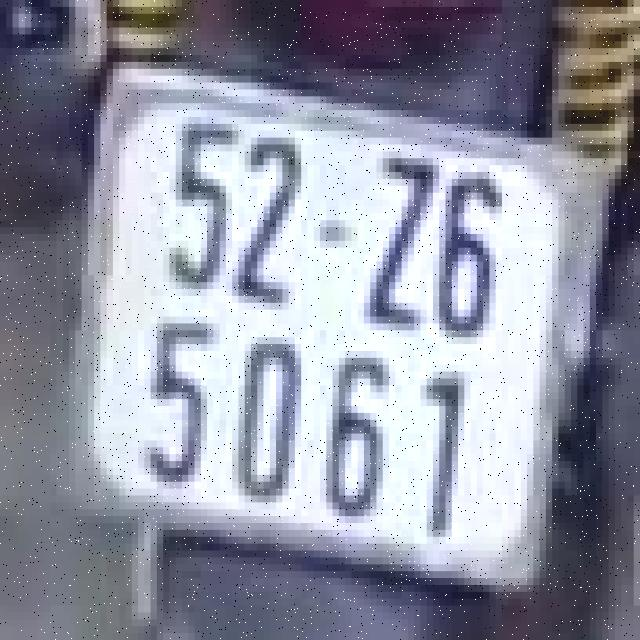0: (232, 330, 314, 516)
1: (414, 368, 477, 540)
2: (232, 117, 314, 310)
5: (138, 309, 220, 482), (166, 113, 229, 300)
6: (433, 158, 521, 351), (314, 351, 402, 530)
Z: (364, 138, 439, 337)
